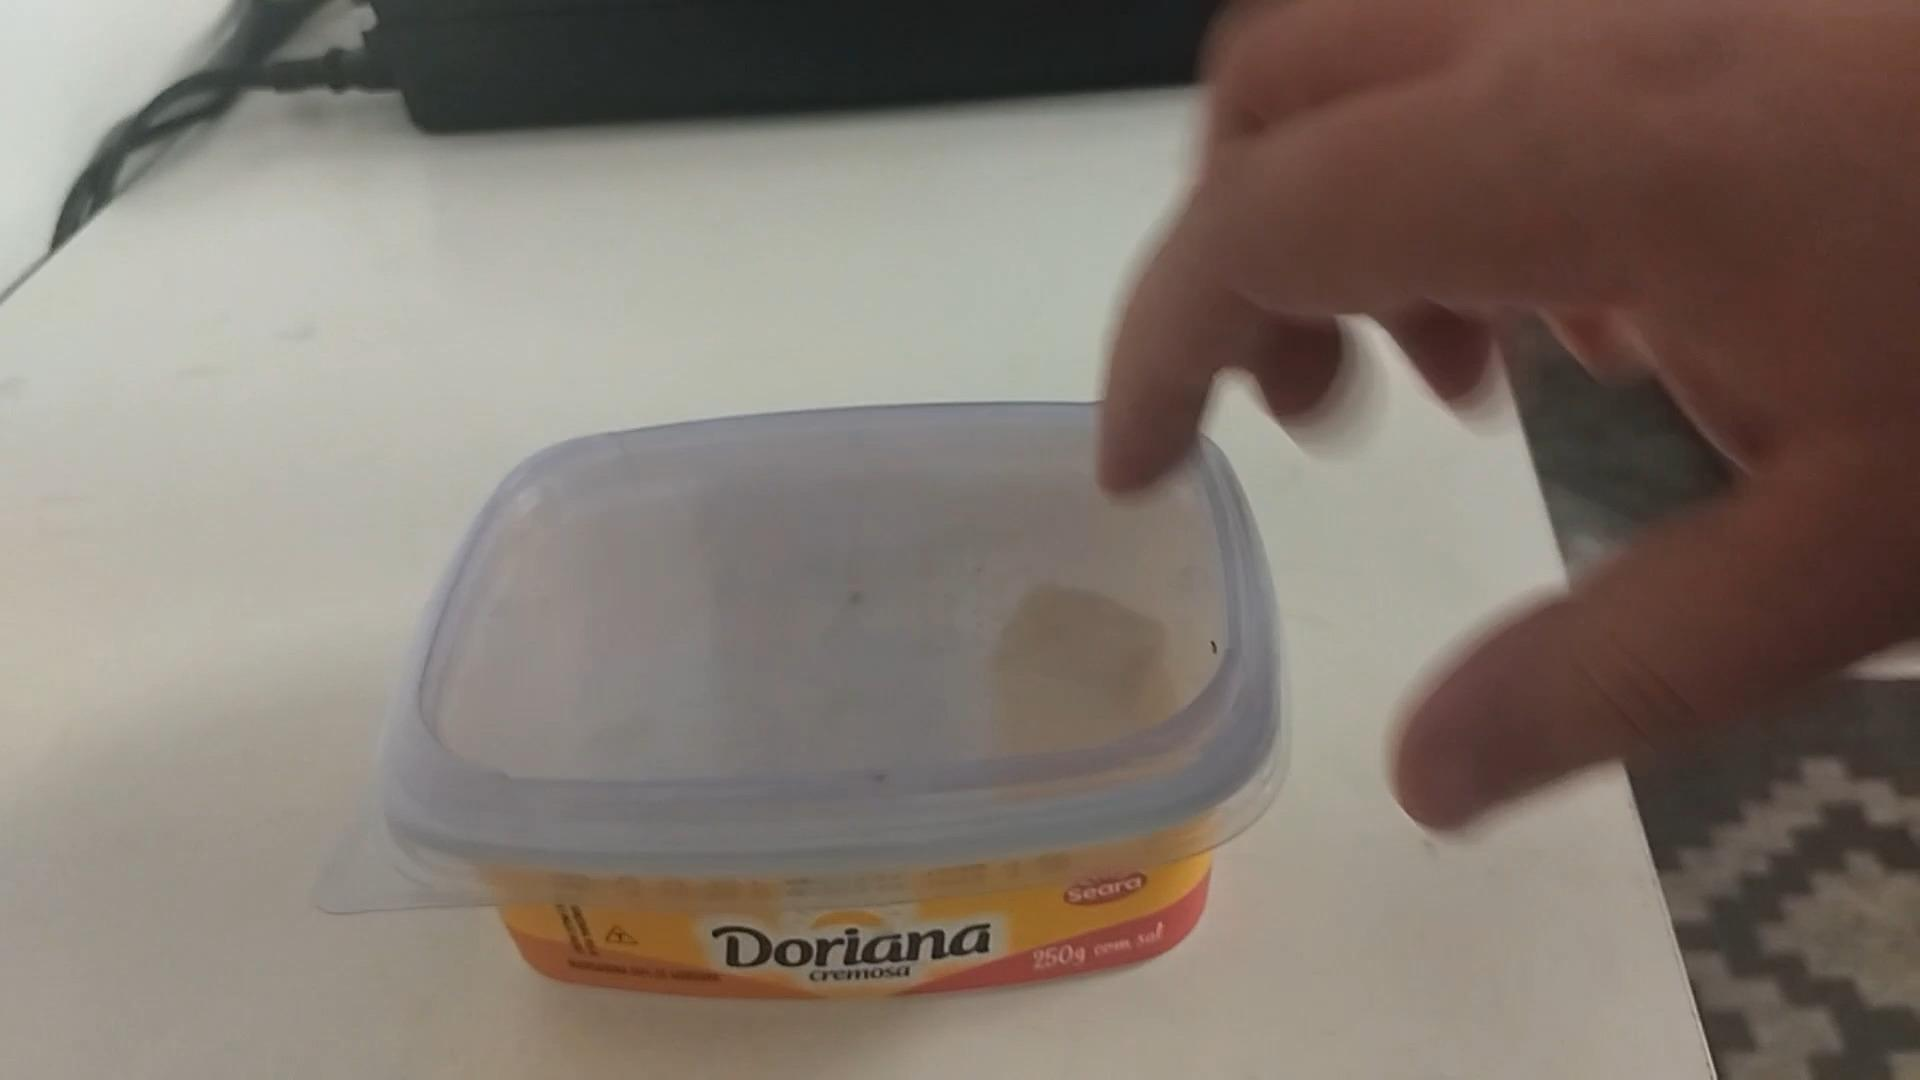butter: (344, 411, 1283, 1002)
